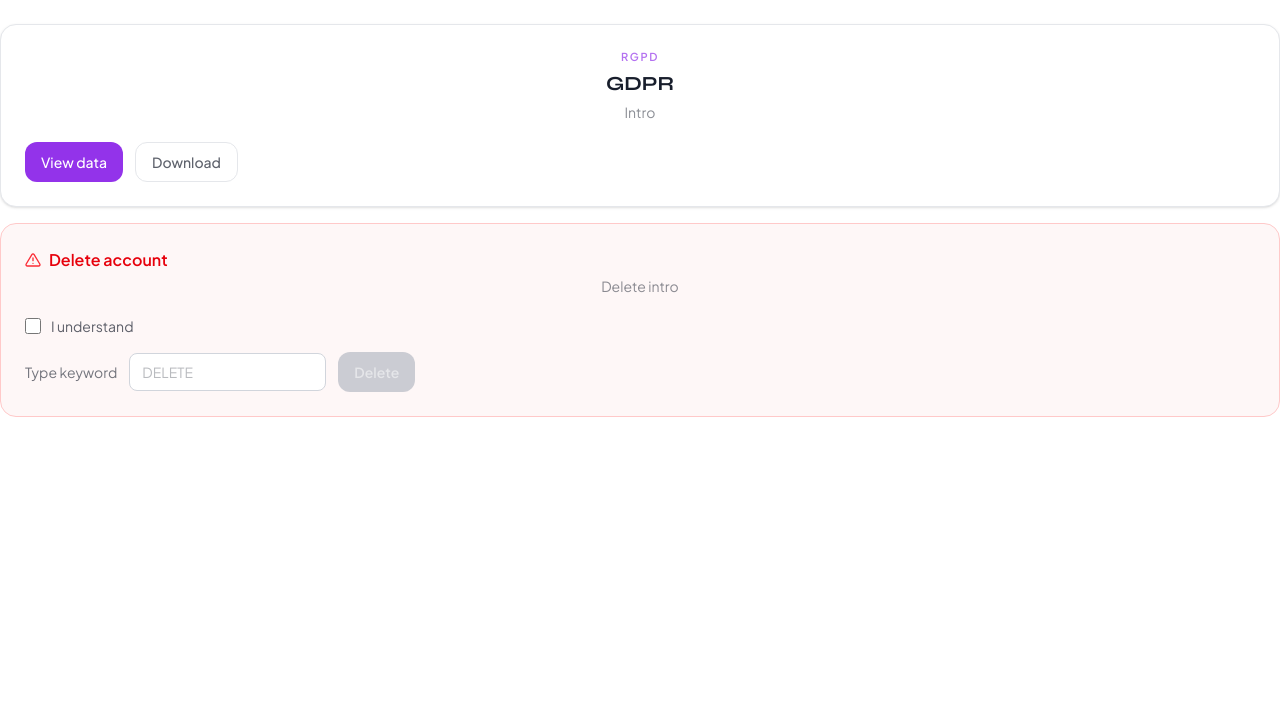
Scenario: DataRights › loads data payload
This screenshot has width=1280, height=720.
Click the button "View data": click(74, 162) x1=25 y1=142 x2=123 y2=182
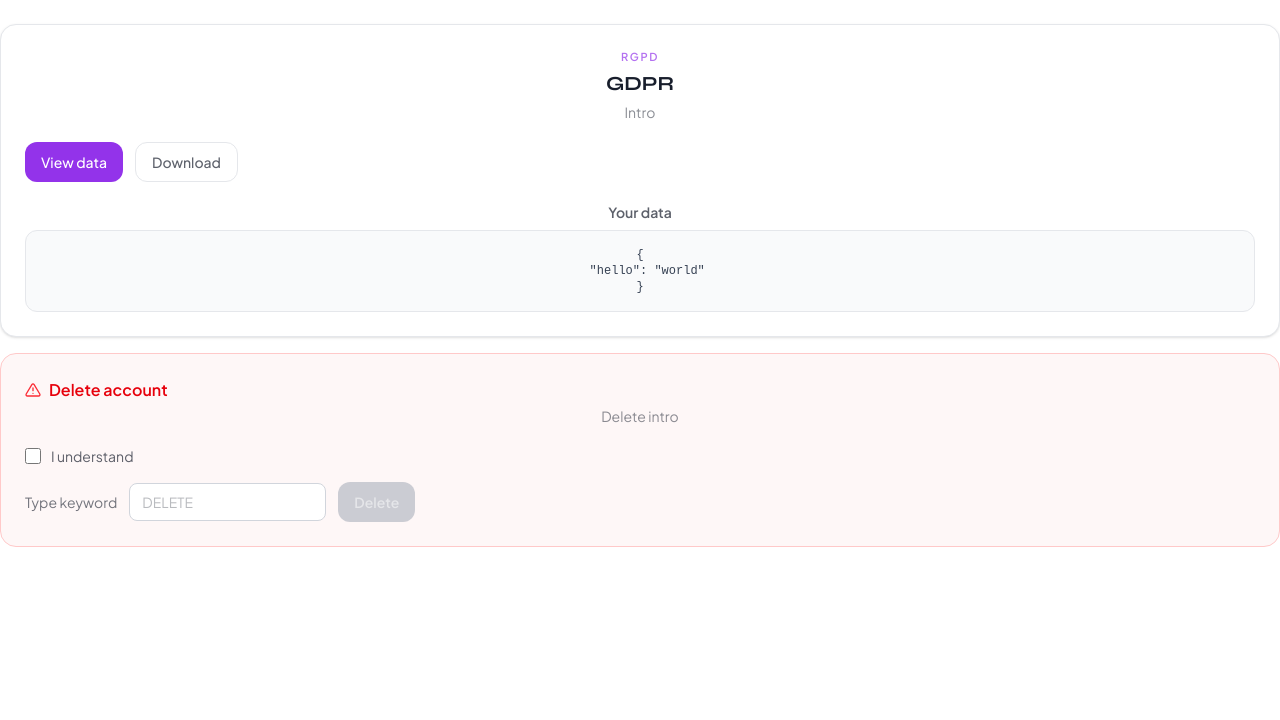
Expected: the text "{ \"hello\": \"world\" }" is shown, x1=25 y1=230 x2=1255 y2=312
